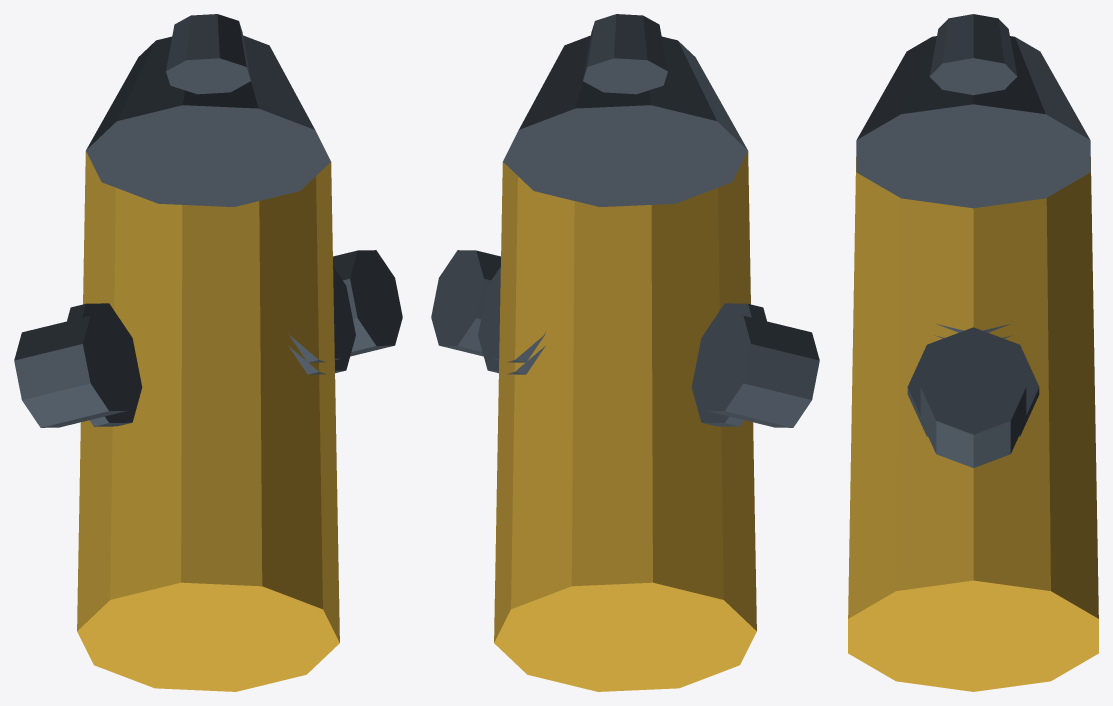
File: hydrant_01.glb
3 views of the same model, side by side, from view 1: azimuth 30°, elevation 25°; view 2: azimuth 150°, elevation 25°; view 3: azimuth 270°, elevation 25° (orthographic).
Parts seen in each view (by area): view 1: hydrant_01; view 2: hydrant_01; view 3: hydrant_01.
Part boxes in pixels (left/top/right/bottom): hydrant_01: left=14, top=14, right=402, bottom=691; hydrant_01: left=431, top=14, right=819, bottom=691; hydrant_01: left=848, top=14, right=1098, bottom=691.
Size of the model in its own units: 0.44 by 0.7624 by 0.2853.
